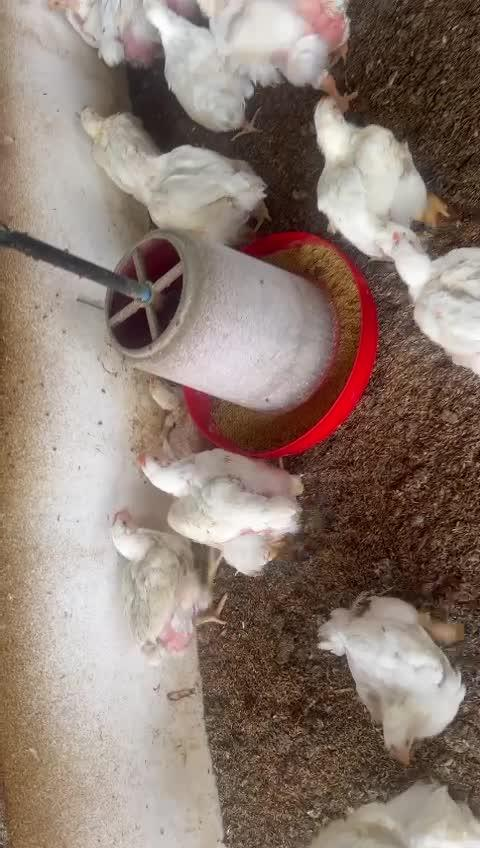Normal: (319, 592, 459, 761), (137, 444, 301, 569), (315, 97, 438, 260), (109, 509, 233, 661), (375, 217, 480, 373), (150, 0, 265, 137), (124, 134, 258, 236), (75, 104, 168, 189)
